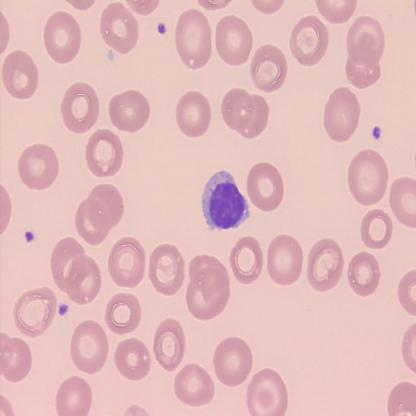Lymphocyte: (201, 170, 251, 232)
